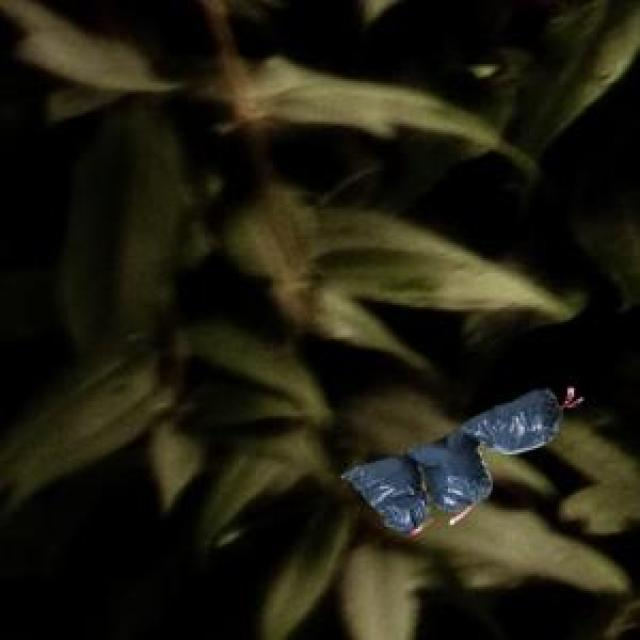Vinyl: (414, 436, 491, 522), (352, 455, 429, 533), (454, 396, 562, 449)
